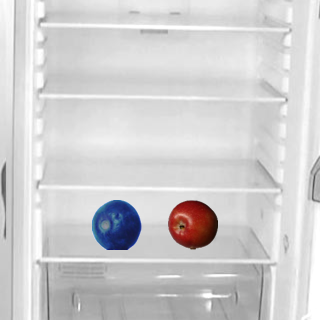Apple Braeburn: (167, 199, 217, 249)
Huckleberry: (91, 199, 141, 249)
